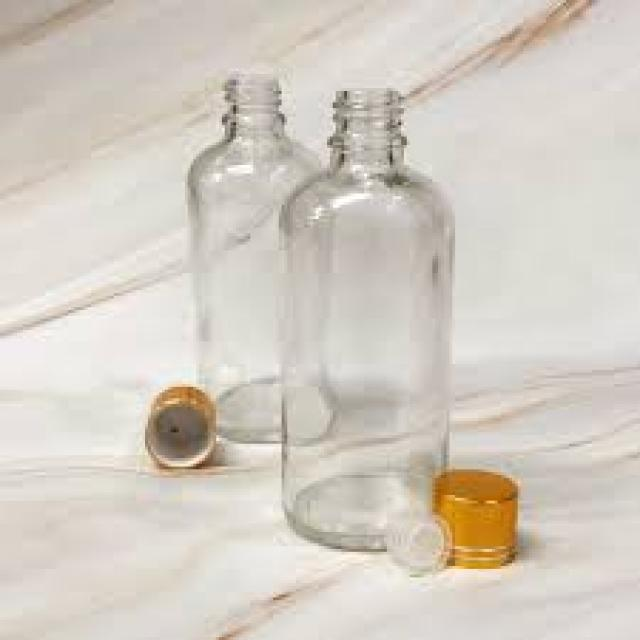Glass-Non-Biodegradable but Recyclable-: (189, 76, 455, 555)
